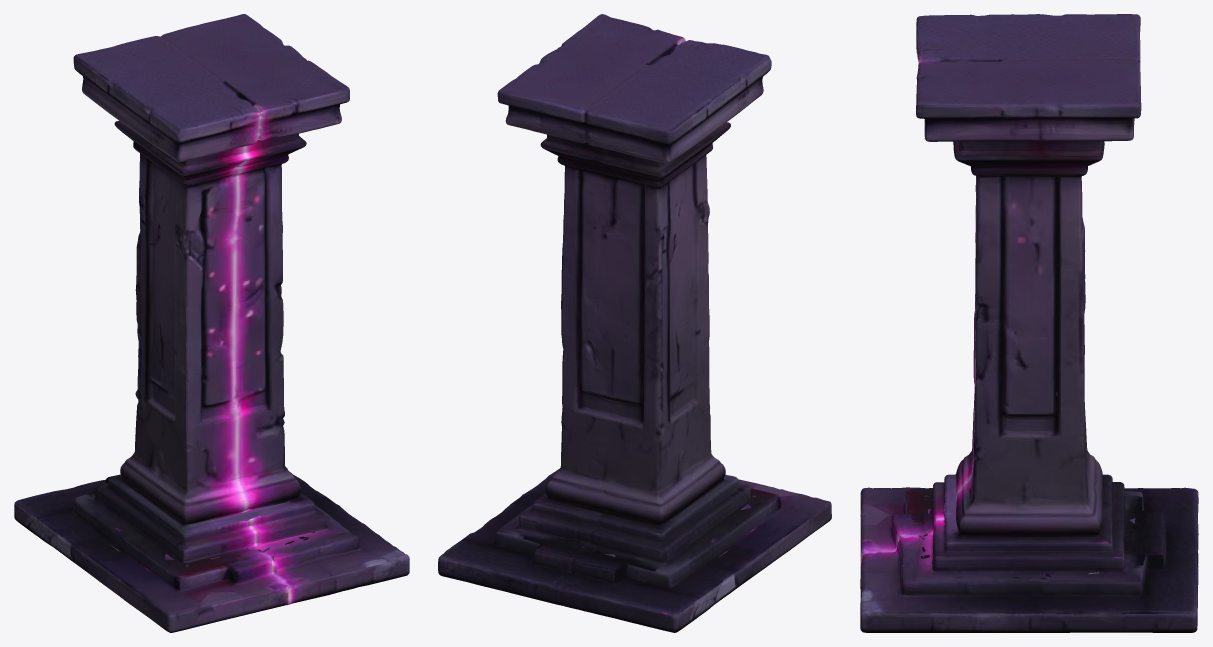
Rendered from weathered-monolith-pillar-generated-2026-04-19T23-48-08-244Z.low.glb.
3 views of the same model, side by side, from view 1: azimuth 30°, elevation 25°; view 2: azimuth 150°, elevation 25°; view 3: azimuth 270°, elevation 25° (orthographic). The views are drawn at different scales.
Visible parts, largest first — view 1: temp_mesh.ply; view 2: temp_mesh.ply; view 3: temp_mesh.ply.
Part boxes in pixels (bbox=[...]): temp_mesh.ply: bbox=[14, 14, 409, 632]; temp_mesh.ply: bbox=[438, 14, 831, 632]; temp_mesh.ply: bbox=[860, 14, 1198, 632].
Bounding box in the file's own units: 1.05 × 1.97 × 1.18.
1 material, 1 textured.
